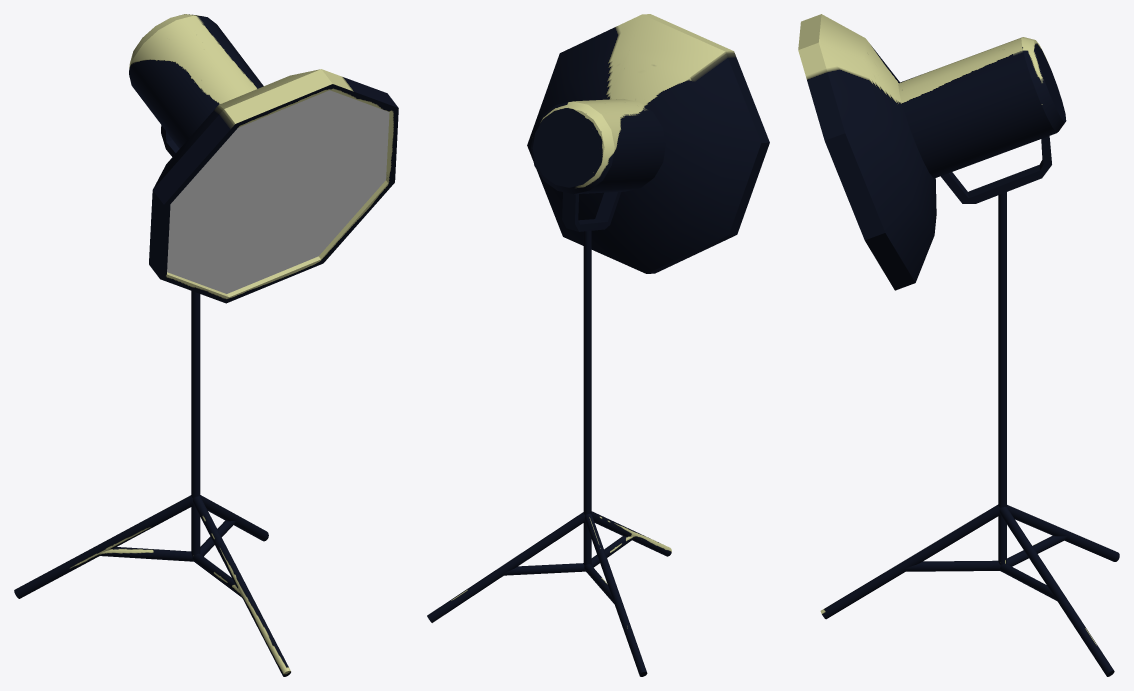
Rendered from light1.fbx.
3 views of the same model, side by side, from view 1: azimuth 30°, elevation 25°; view 2: azimuth 150°, elevation 25°; view 3: azimuth 270°, elevation 25° (orthographic). The views are drawn at different scales.
Parts seen in each view (by area): view 1: Cylinder.004, Cylinder.005; view 2: Cylinder.004; view 3: Cylinder.004.
Boxes of the visible parts, box(x1,y1,x2,y2) form: Cylinder.004: box(14, 14, 398, 676); Cylinder.005: box(167, 90, 389, 293); Cylinder.004: box(427, 14, 769, 676); Cylinder.004: box(798, 14, 1119, 676).
Bounding box in the file's own units: 966 × 2198 × 1082.
1 material, 1 textured.
